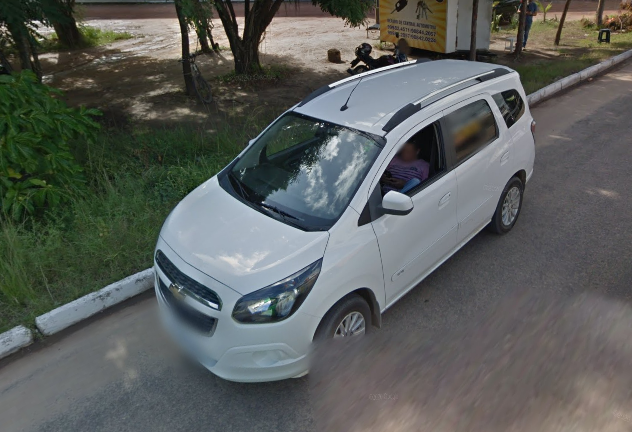car: (149, 52, 541, 392)
